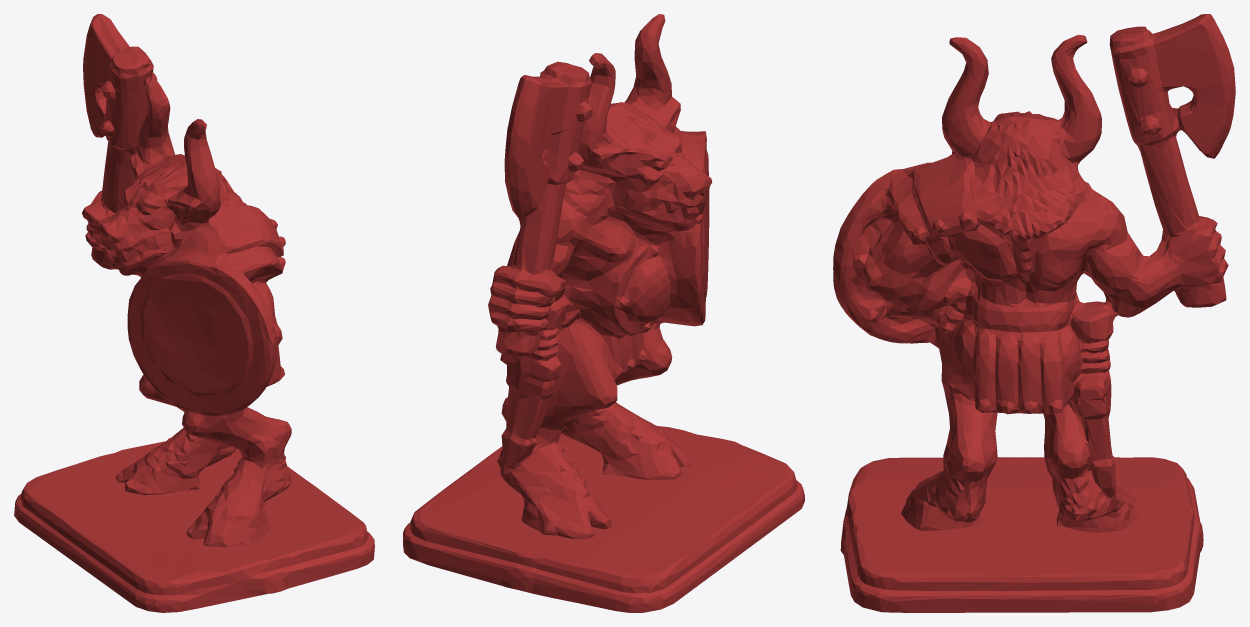
The model's file is beastman.glb.
The picture shows the model from 3 angles, left to right: view 1: azimuth 30°, elevation 25°; view 2: azimuth 150°, elevation 25°; view 3: azimuth 270°, elevation 25°; orthographic projection. The views are drawn at different scales.
Parts seen in each view (by area): view 1: beastmen_1_-_chaos_army; view 2: beastmen_1_-_chaos_army; view 3: beastmen_1_-_chaos_army.
Boxes of the visible parts, bbox=[...] form: beastmen_1_-_chaos_army: bbox=[14, 14, 374, 612]; beastmen_1_-_chaos_army: bbox=[403, 14, 804, 612]; beastmen_1_-_chaos_army: bbox=[833, 14, 1235, 612].
Bounding box in the file's own units: 12.29 × 22.85 × 15.87.
